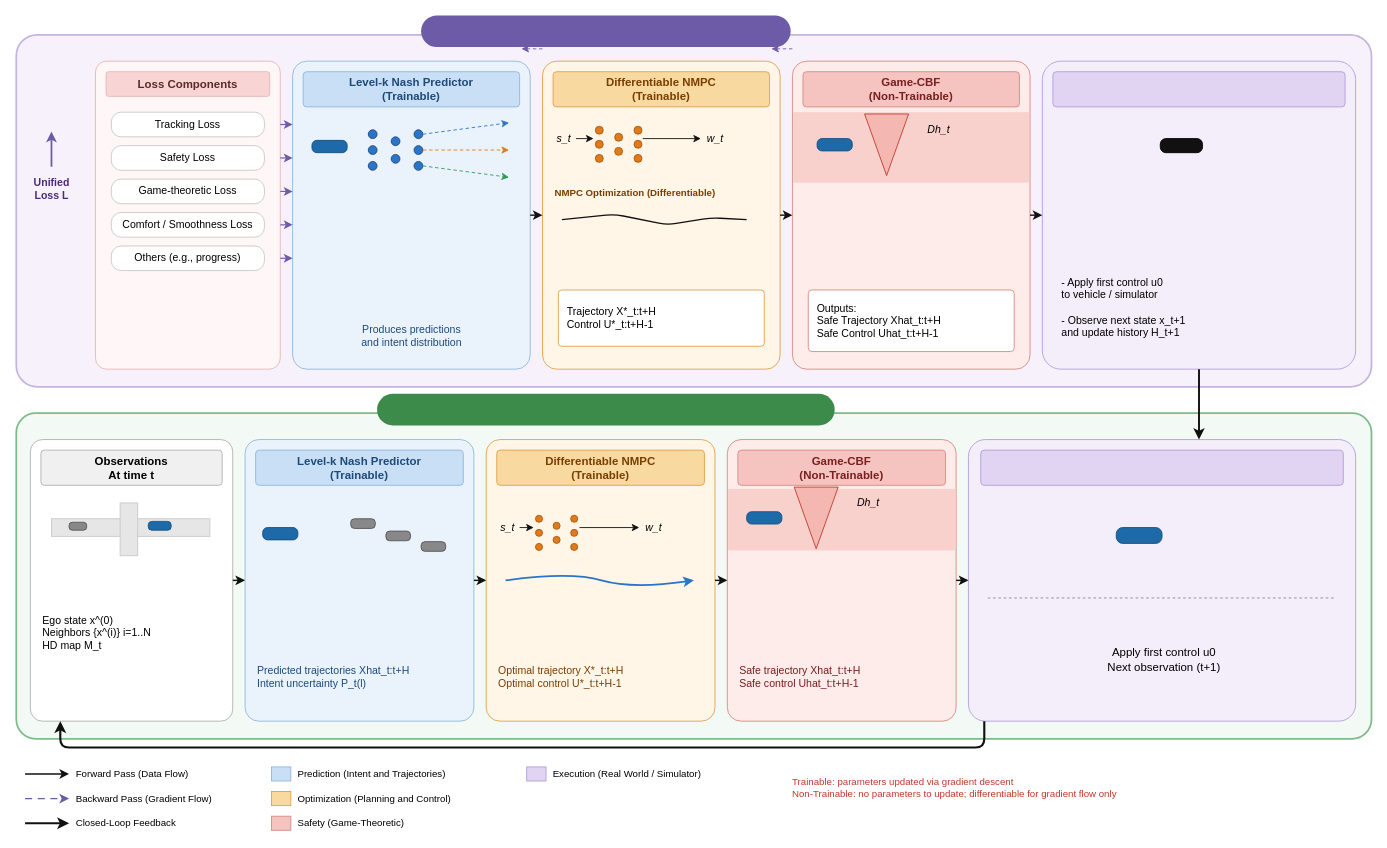
This 1387x848 diagram has some shape labels left out. The centre of each missing label's shape, as x and y in pixels:
"1. End-to-End Learning (Gradient Flow)" belongs at [605,31].
"2. Closed-Loop Execution (Inference / Deployment)" belongs at [605,409].
"Control and Plant (Autonomous Vehicle / Simulator)" belongs at [1161,467].
"Control and Plant (Simulator / Vehicle)" belongs at [1198,89].
